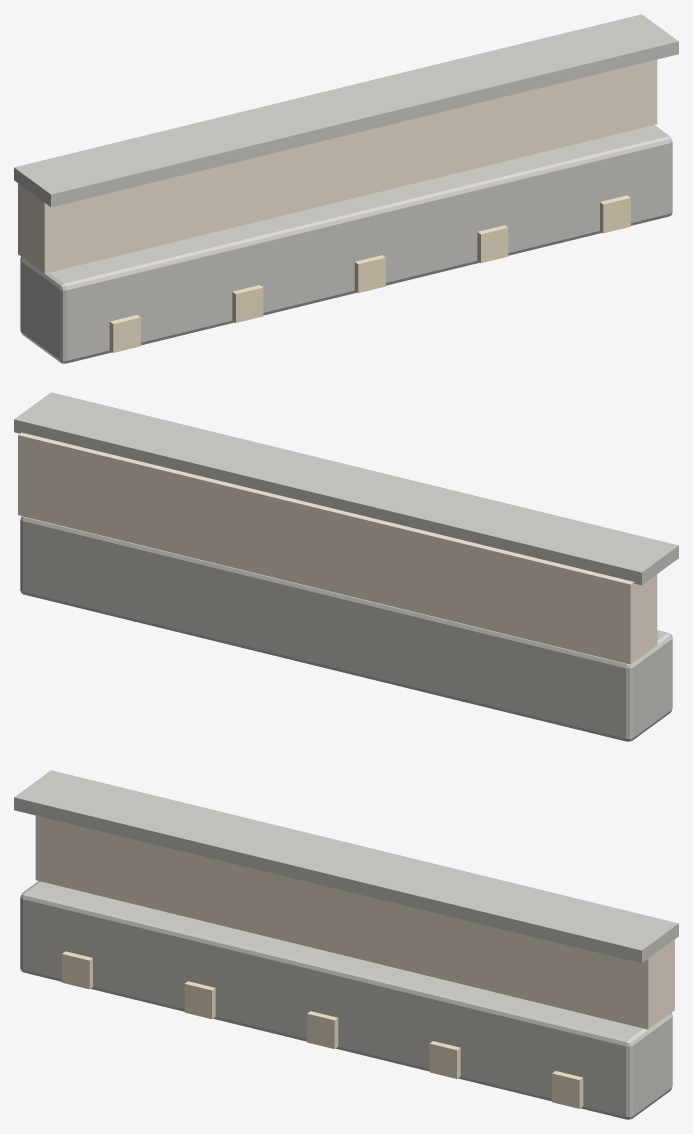
The model's file is fachada_topo.glb.
The picture shows the model from 3 angles, top to bottom: view 1: azimuth 30°, elevation 25°; view 2: azimuth 150°, elevation 25°; view 3: azimuth 330°, elevation 25°; orthographic projection.
Visible parts, largest first — view 1: fachada_topo; view 2: fachada_topo; view 3: fachada_topo.
Part boxes in pixels (<box>): fachada_topo: <box>14,14,678,363</box>; fachada_topo: <box>14,392,678,741</box>; fachada_topo: <box>14,770,678,1119</box>.
Size of the model in its own units: 4.1 by 1.07 by 0.54.
